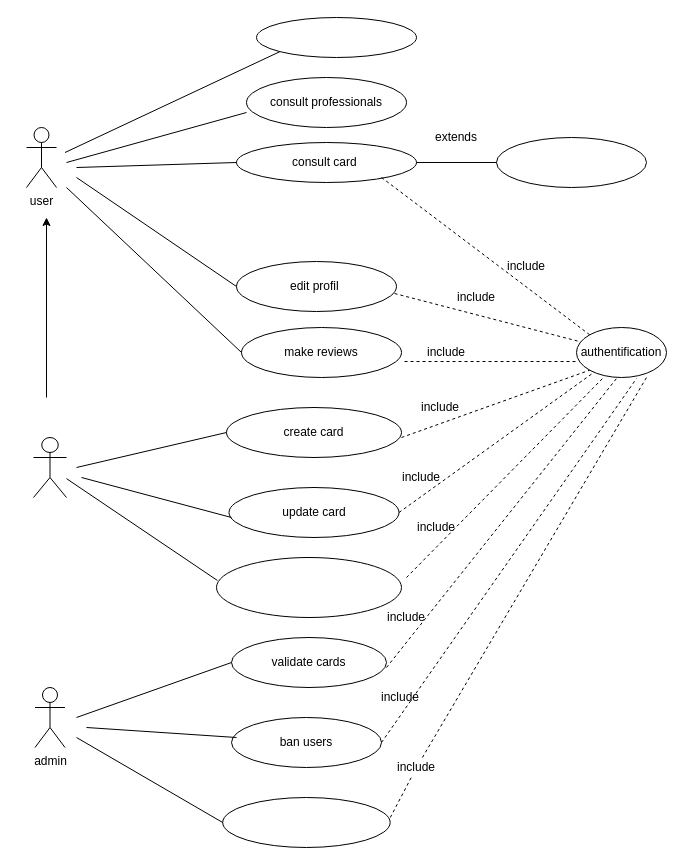
Image size: 684x865. Some labels were removed from this diagram. The centre of each missing label's shape, as x and y in pixels:
"delete card" belongs at point (309, 587).
"make appointments" belongs at point (571, 162).
"manage categories" belongs at point (306, 822).
"professional" belongs at point (49, 467).
"register" belongs at point (336, 37).
